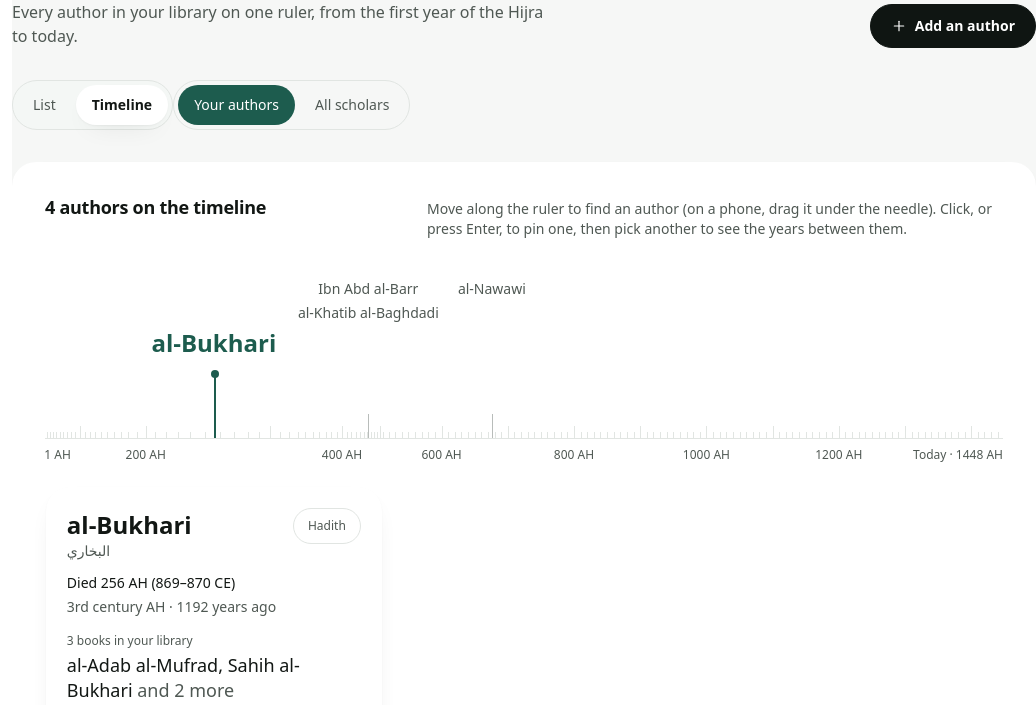
Test: AuthorTimelinePage › pins two authors and says the years between them, then clears
Press Enter in the slider named "Timeline of authors", box [45,263,1003,471]
Press End in the slider named "Timeline of authors", box [45,263,1003,471]
(page scrolled)
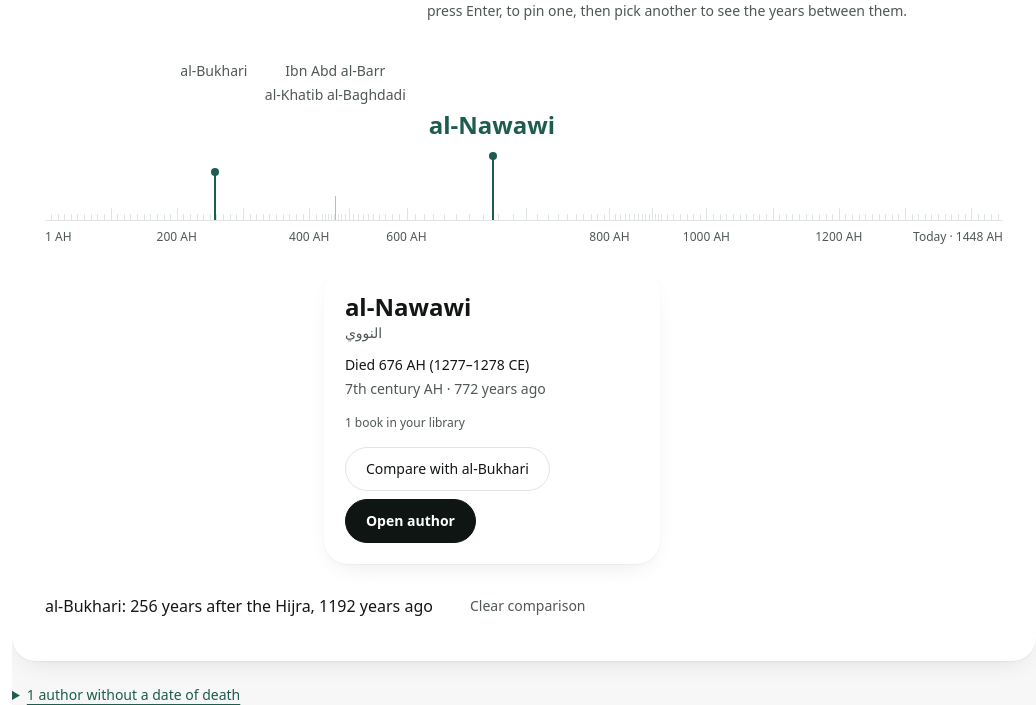
Click the button "Compare with al-Bukhari".
click(447, 469)  # box [345,447,550,491]
(page scrolled)
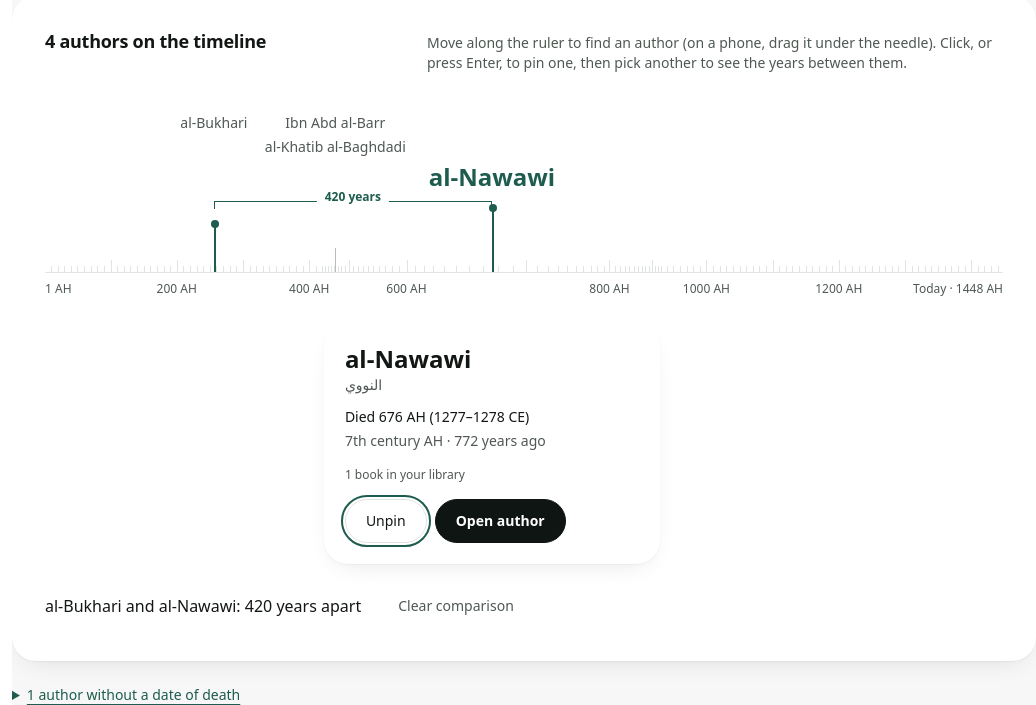
Expected: the text "al-Bukhari and al-Nawawi: 420 years apart" is shown, [45,594,361,618]
Click the button "Clear comparison".
click(456, 606)  # box [377,584,535,628]
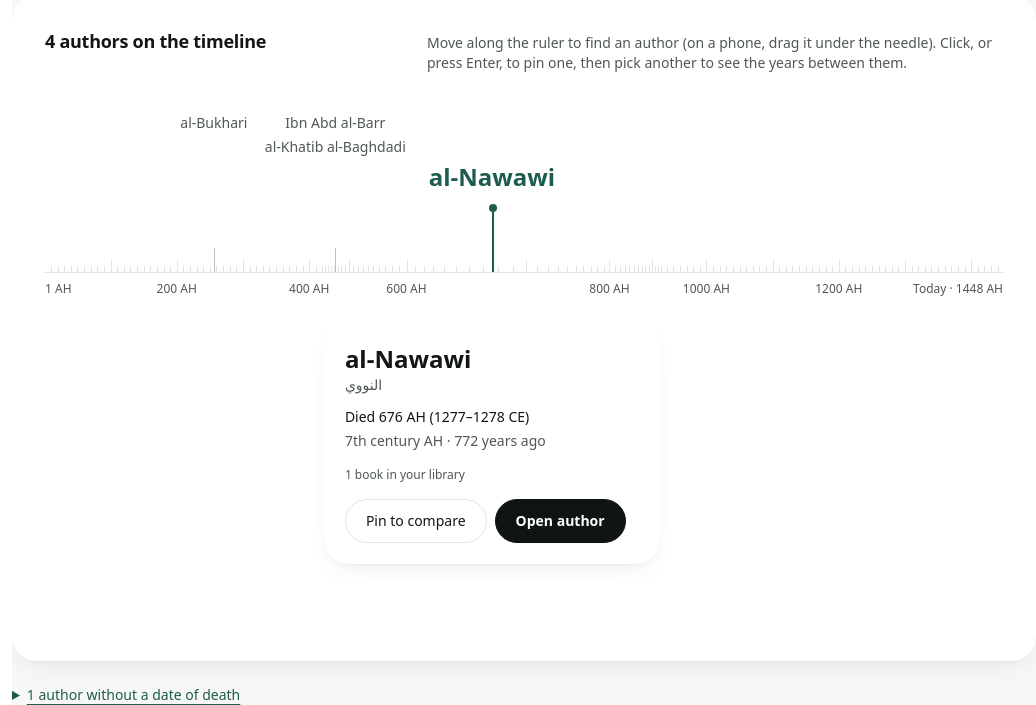
Expected: the text "years apart" is gone
